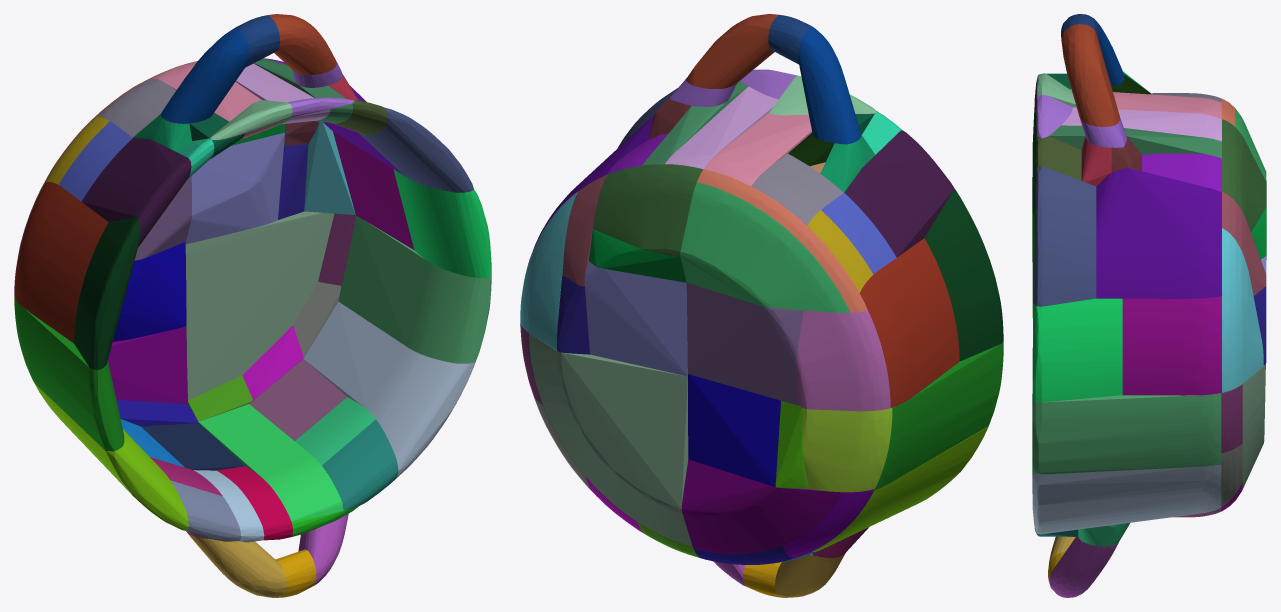
Rendered from coacd_collision.obj.
3 views of the same model, side by side, from view 1: azimuth 30°, elevation 25°; view 2: azimuth 150°, elevation 25°; view 3: azimuth 270°, elevation 25° (orthographic). The views are drawn at different scales.
Parts seen in each view (by area): view 1: geometry_0, geometry_3, geometry_6, geometry_15, geometry_12, geometry_36, geometry_8, geometry_23, geometry_26, geometry_25, geometry_11, geometry_5 (+42 smaller); view 2: geometry_0, geometry_10, geometry_15, geometry_1, geometry_11, geometry_12, geometry_8, geometry_7, geometry_5, geometry_26, geometry_19, geometry_25 (+30 smaller); view 3: geometry_27, geometry_3, geometry_6, geometry_14, geometry_23, geometry_16, geometry_2, geometry_31, geometry_19, geometry_43, geometry_49, geometry_38 (+21 smaller).
Boxes of the visible parts, left/top/right/bottom form: geometry_0: left=185, top=211, right=334, bottom=400; geometry_3: left=338, top=216, right=491, bottom=363; geometry_6: left=303, top=301, right=475, bottom=477; geometry_15: left=14, top=182, right=108, bottom=343; geometry_12: left=185, top=132, right=284, bottom=244; geometry_36: left=198, top=404, right=343, bottom=521; geometry_8: left=14, top=298, right=124, bottom=451; geometry_23: left=393, top=169, right=491, bottom=277; geometry_26: left=81, top=138, right=191, bottom=247; geometry_25: left=74, top=217, right=140, bottom=369; geometry_11: left=108, top=326, right=187, bottom=403; geometry_5: left=113, top=242, right=186, bottom=341; geometry_0: left=529, top=333, right=692, bottom=546; geometry_10: left=680, top=182, right=850, bottom=312; geometry_15: left=859, top=238, right=959, bottom=407; geometry_1: left=686, top=283, right=803, bottom=405; geometry_11: left=681, top=459, right=843, bottom=553; geometry_12: left=584, top=261, right=687, bottom=376; geometry_8: left=874, top=341, right=1003, bottom=489; geometry_7: left=797, top=310, right=890, bottom=411; geometry_5: left=688, top=374, right=780, bottom=486; geometry_26: left=844, top=130, right=955, bottom=257; geometry_19: left=593, top=164, right=703, bottom=257; geometry_25: left=924, top=190, right=1003, bottom=361; geometry_27: left=1096, top=168, right=1221, bottom=298; geometry_3: left=1032, top=393, right=1221, bottom=474; geometry_6: left=1032, top=464, right=1221, bottom=534; geometry_14: left=1122, top=296, right=1221, bottom=395; geometry_23: left=1032, top=298, right=1122, bottom=402; geometry_16: left=1034, top=166, right=1096, bottom=306; geometry_2: left=1222, top=228, right=1263, bottom=392; geometry_31: left=1061, top=24, right=1120, bottom=126; geometry_19: left=1222, top=119, right=1266, bottom=232; geometry_43: left=1036, top=125, right=1221, bottom=158; geometry_49: left=1061, top=107, right=1221, bottom=141; geometry_38: left=1049, top=537, right=1118, bottom=597.
Bounding box in the file's own units: 176 × 241 × 91.06.
